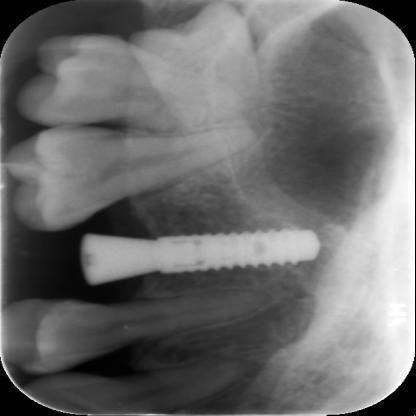ITI: (156, 218, 326, 280)
